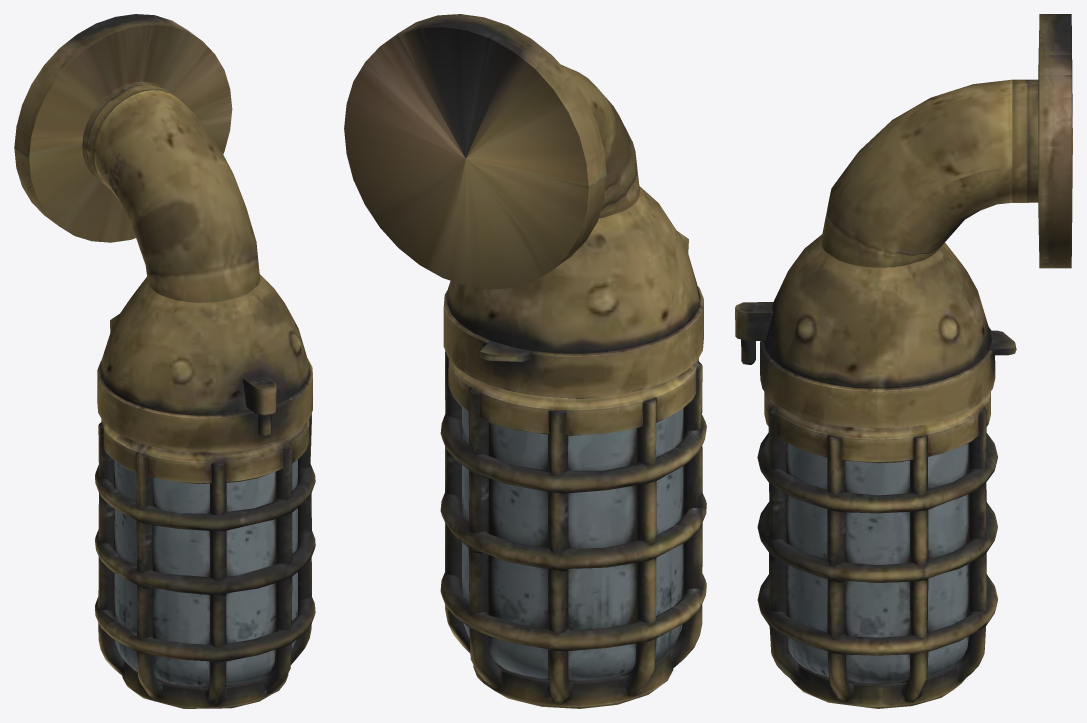
The model's file is diverwalllight.glb.
The picture shows the model from 3 angles, left to right: view 1: azimuth 30°, elevation 25°; view 2: azimuth 150°, elevation 25°; view 3: azimuth 270°, elevation 25°; orthographic projection. The views are drawn at different scales.
Visible parts, largest first — view 1: DiverWallLight; view 2: DiverWallLight; view 3: DiverWallLight.
Boxes of the visible parts, <box> form: DiverWallLight: <box>14,14,315,708</box>; DiverWallLight: <box>344,14,706,708</box>; DiverWallLight: <box>735,14,1072,708</box>.
Bounding box in the file's own units: 0.1056 × 0.3023 × 0.1399.
1 material, 1 textured.
